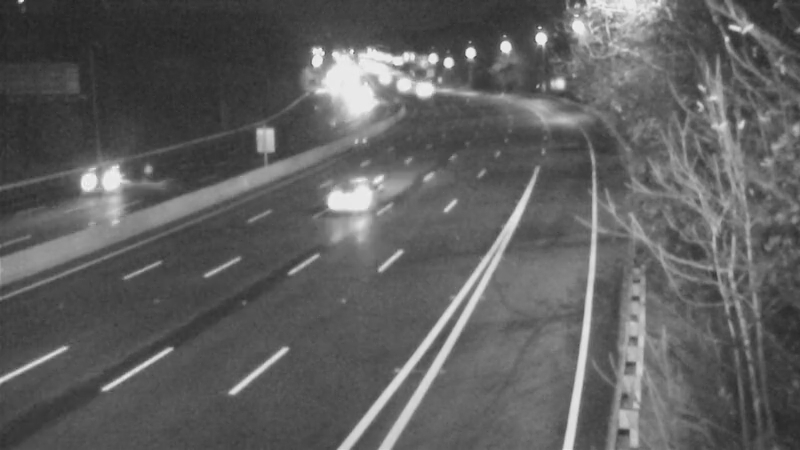vehicle: (321, 146, 401, 226), (55, 148, 135, 228)
